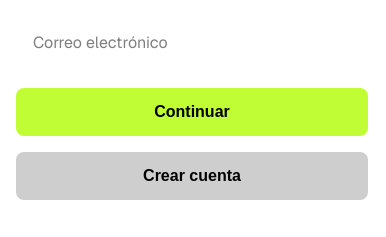
it: LoginPage › shows validation message when email is missing
Click the button "Continuar" at (192,112), box [16,88,368,136]
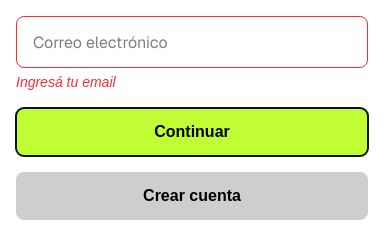
Check: the text "Ingresá tu email" is shown, box [16,74,116,90]
